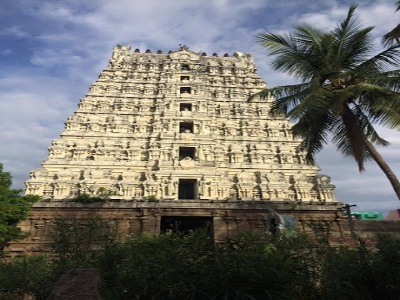gopura: (56, 41, 339, 208)
